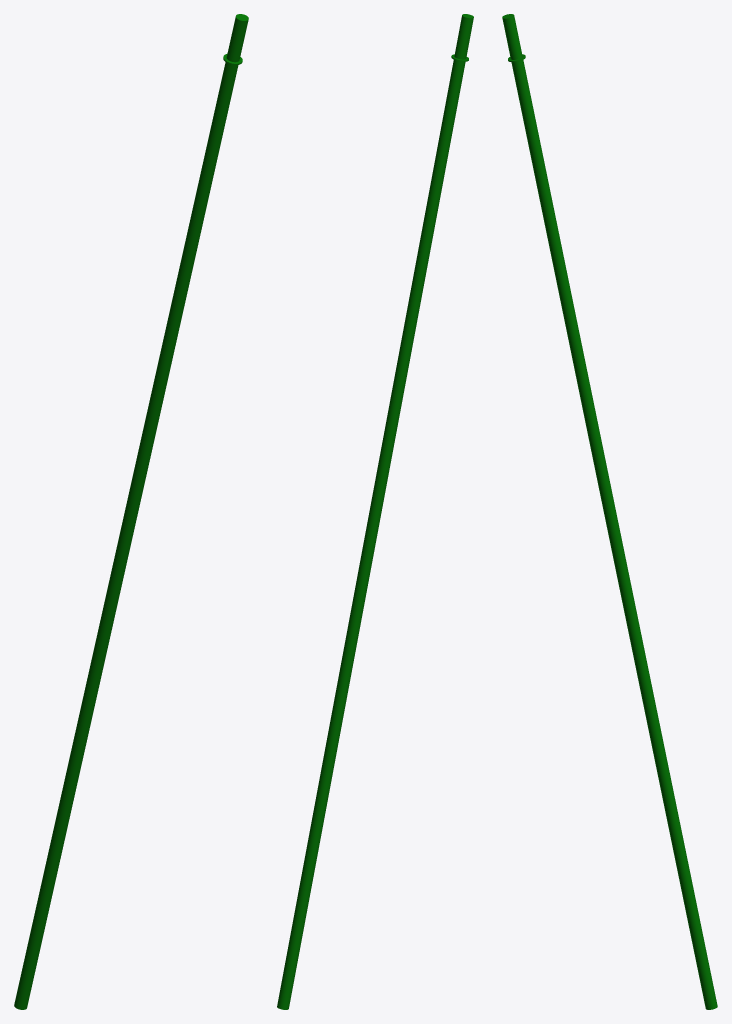
File: Image-1710907555368-2281448079840_J-5.fbx
The picture shows the model from 3 angles, left to right: view 1: azimuth 90°, elevation 25°; view 2: azimuth 150°, elevation 25°; view 3: azimuth 270°, elevation 25°; orthographic projection. The views are drawn at different scales.
Parts seen in each view (by area): view 1: CYLINDER 1 of SUBEQUIPMENT /J-5-PRIM, CYLINDER 2 of SUBEQUIPMENT /J-5-OBST; view 2: CYLINDER 1 of SUBEQUIPMENT /J-5-PRIM, CYLINDER 2 of SUBEQUIPMENT /J-5-OBST; view 3: CYLINDER 1 of SUBEQUIPMENT /J-5-PRIM, CYLINDER 2 of SUBEQUIPMENT /J-5-OBST.
Part boxes in pixels (bbox=[...]): CYLINDER 1 of SUBEQUIPMENT /J-5-PRIM: bbox=[14, 62, 238, 1009]; CYLINDER 2 of SUBEQUIPMENT /J-5-OBST: bbox=[226, 14, 248, 62]; CYLINDER 1 of SUBEQUIPMENT /J-5-PRIM: bbox=[277, 60, 465, 1009]; CYLINDER 2 of SUBEQUIPMENT /J-5-OBST: bbox=[454, 14, 473, 59]; CYLINDER 1 of SUBEQUIPMENT /J-5-PRIM: bbox=[511, 60, 717, 1009]; CYLINDER 2 of SUBEQUIPMENT /J-5-OBST: bbox=[502, 14, 522, 59].
Bounding box in the file's own units: 2.48 × 4.82 × 23.52.
